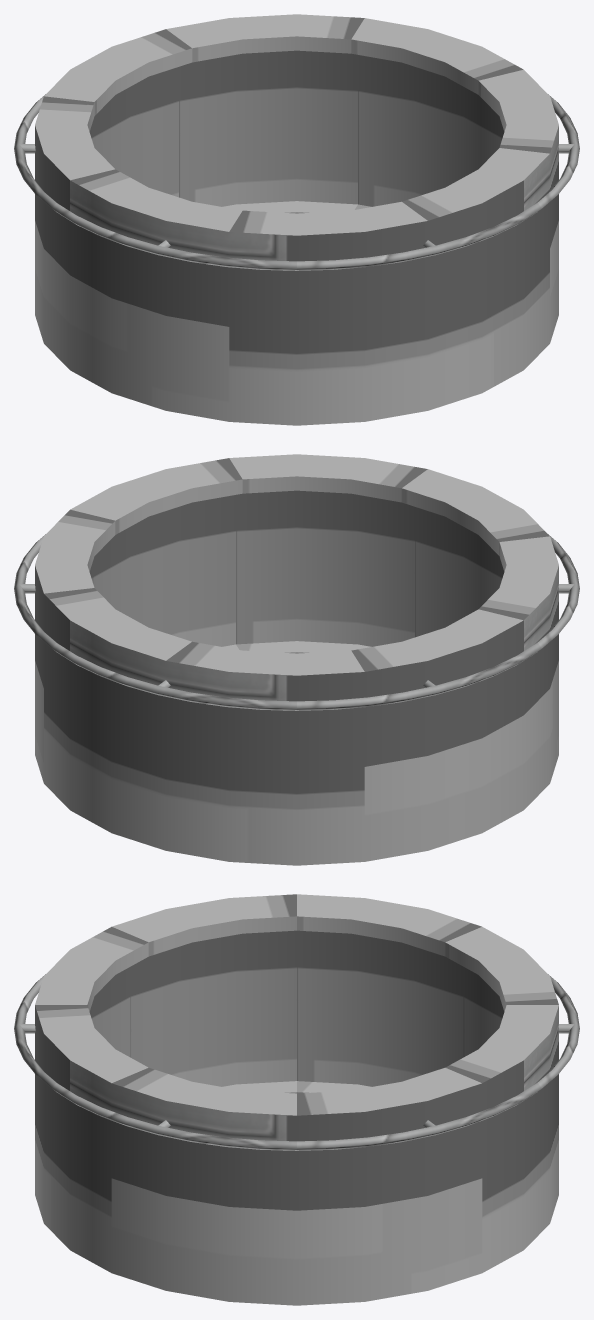
File: hadar_fuselage_s1_1.obj
3 renders of one model, top to bottom at view 1: azimuth 30°, elevation 25°; view 2: azimuth 150°, elevation 25°; view 3: azimuth 270°, elevation 25°, orthographic.
Parts seen in each view (by area): view 1: mesh; view 2: mesh; view 3: mesh.
Part boxes in pixels (x1,y1,x2,y2): mesh: [14, 14, 579, 425]; mesh: [14, 454, 579, 865]; mesh: [14, 894, 579, 1305].
Size of the model in its own units: 1.35 by 0.5 by 1.35.
